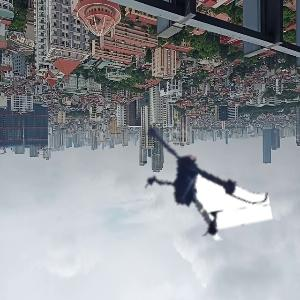drone: (116, 100, 264, 248)
